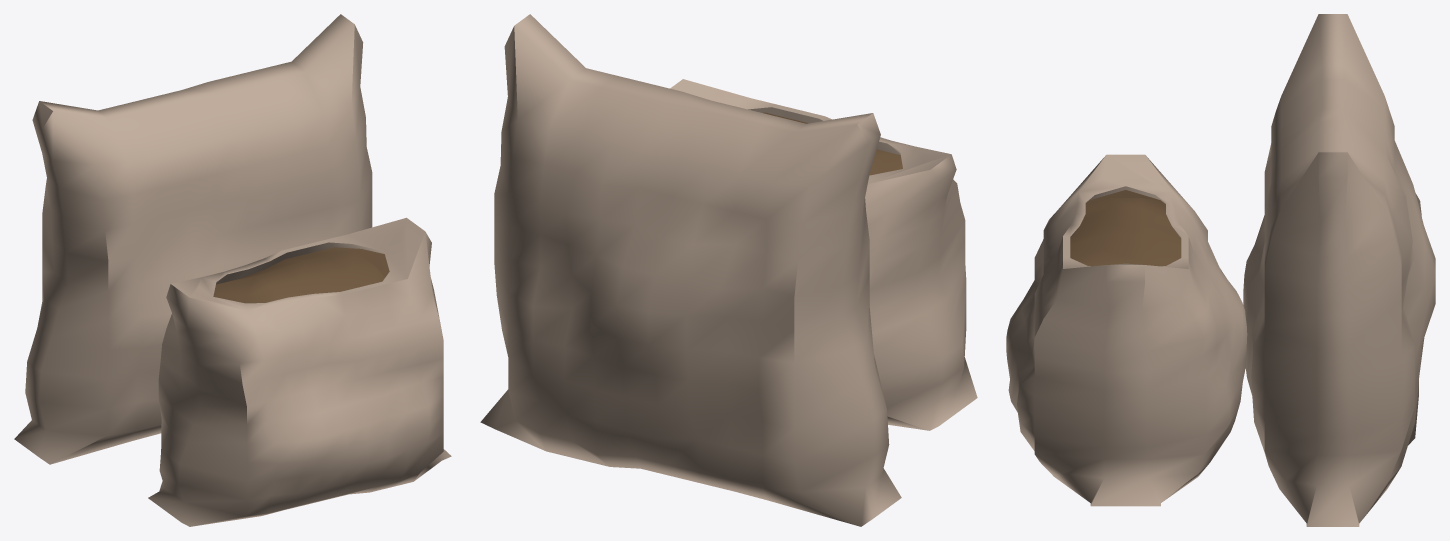
The model's file is mesh_fertilizer.fbx.
3 renders of one model, left to right at view 1: azimuth 30°, elevation 25°; view 2: azimuth 150°, elevation 25°; view 3: azimuth 270°, elevation 25°, orthographic. The views are drawn at different scales.
Parts seen in each view (by area): view 1: mesh_fertilizer; view 2: mesh_fertilizer; view 3: mesh_fertilizer.
Part boxes in pixels (box(x1,y1,x2,y2)): mesh_fertilizer: box(14, 14, 451, 526); mesh_fertilizer: box(480, 14, 977, 526); mesh_fertilizer: box(1006, 14, 1435, 526).
Bounding box in the file's own units: 71.59 × 71.48 × 74.61.
